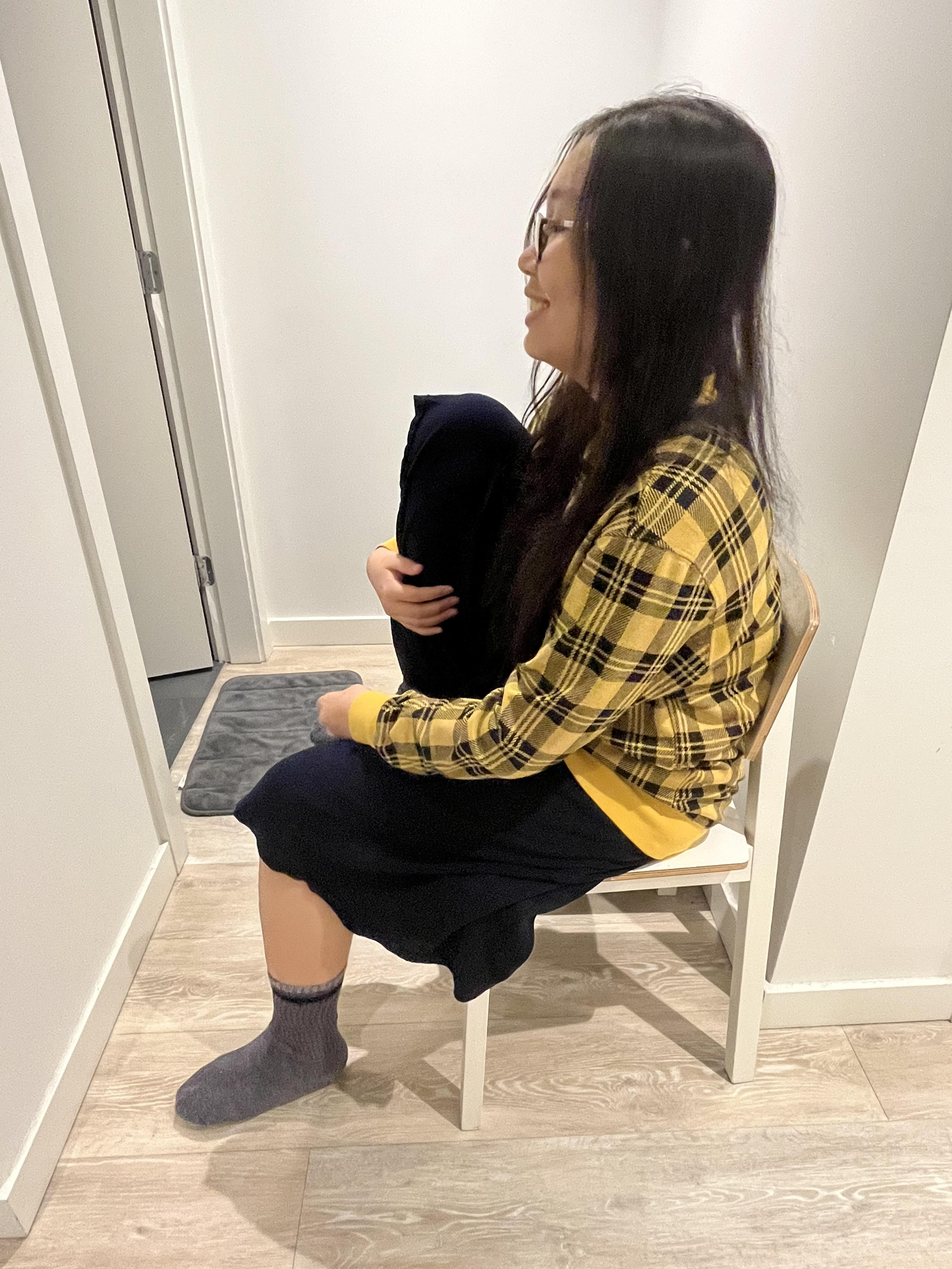BadPosture: (170, 89, 777, 1133)
